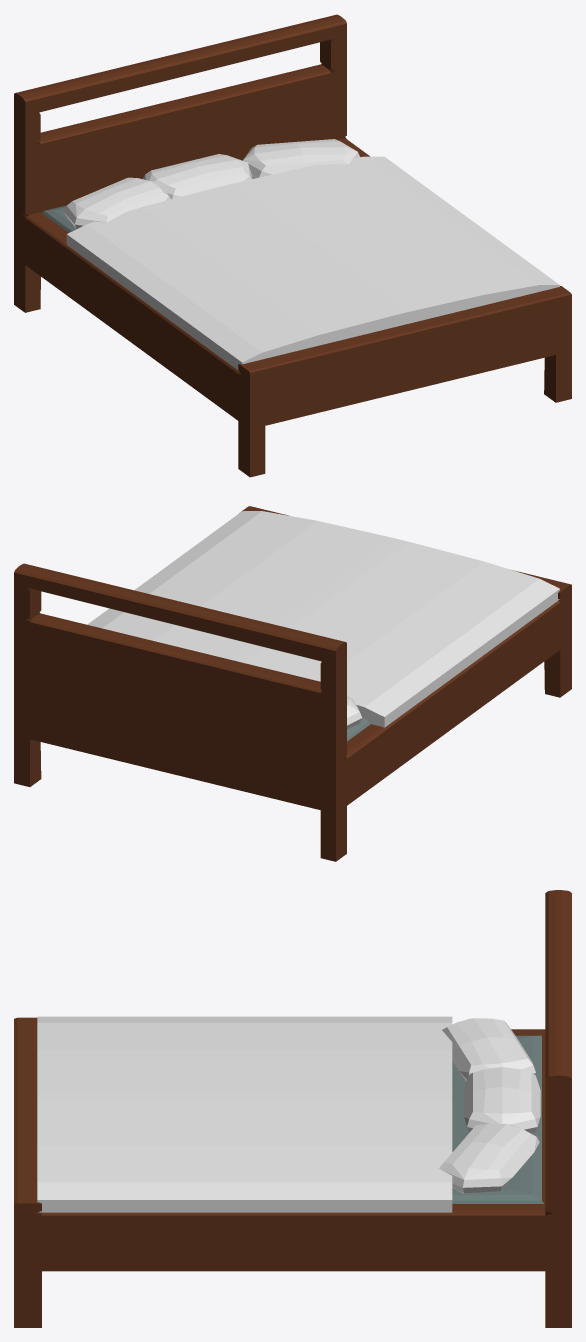
Rendered from wooden-bed-by-bouggles-vU35uQsXj3.glb.
3 views of the same model, one above another, from view 1: azimuth 30°, elevation 25°; view 2: azimuth 150°, elevation 25°; view 3: azimuth 270°, elevation 25° (orthographic). The views are drawn at different scales.
Visible parts, largest first — view 1: Bed; view 2: Bed; view 3: Bed.
Boxes of the visible parts, x1=… form: Bed: x1=14, y1=14, x2=571, y2=477; Bed: x1=14, y1=506, x2=571, y2=861; Bed: x1=14, y1=890, x2=571, y2=1327.
Bounding box in the file's own units: 3 × 1.9 × 3.81.
